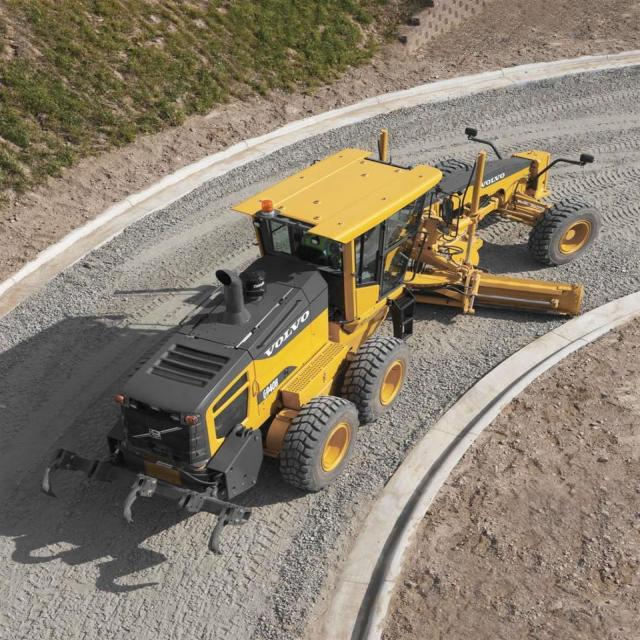Grader: (41, 107, 640, 525)
